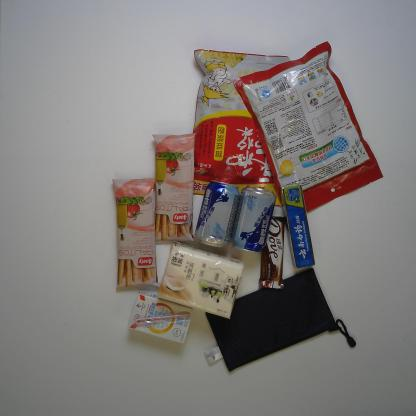Alcohol: (189, 178, 242, 249), (230, 181, 277, 254)
Chocolate: (251, 213, 290, 292)
Dessert: (106, 175, 172, 292), (148, 129, 198, 247)
Instant Drink: (230, 38, 388, 222), (186, 46, 298, 210)
Milk: (124, 289, 199, 347)
Personal Hygiene: (281, 180, 318, 271)
Stationery: (199, 264, 357, 376)
Tissue: (152, 237, 245, 321)
